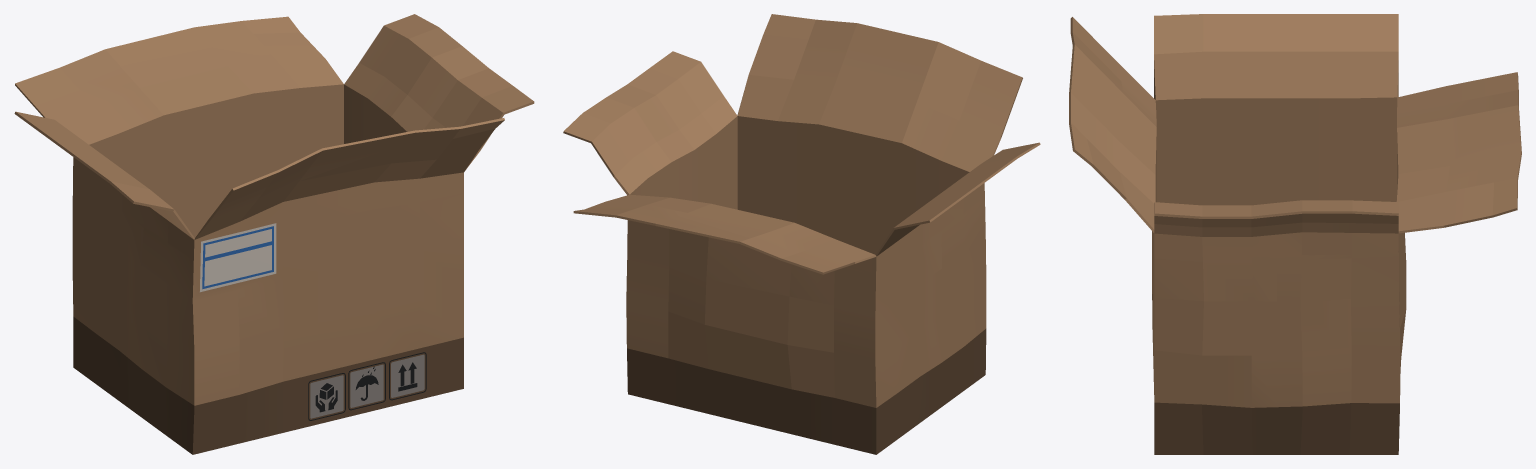
File: SM_Cardboard_Box_01_Open.glb
3 views of the same model, side by side, from view 1: azimuth 30°, elevation 25°; view 2: azimuth 150°, elevation 25°; view 3: azimuth 270°, elevation 25° (orthographic). The views are drawn at different scales.
Visible parts, largest first — view 1: SM_Cardboard_Box_01_Open; view 2: SM_Cardboard_Box_01_Open; view 3: SM_Cardboard_Box_01_Open.
Part boxes in pixels (x1,y1,x2,y2): SM_Cardboard_Box_01_Open: [14, 14, 534, 454]; SM_Cardboard_Box_01_Open: [563, 14, 1040, 454]; SM_Cardboard_Box_01_Open: [1069, 14, 1521, 454].
Size of the model in its own units: 0.5856 by 0.4339 by 0.5561.
Materials: 1 (1 with a texture image).
